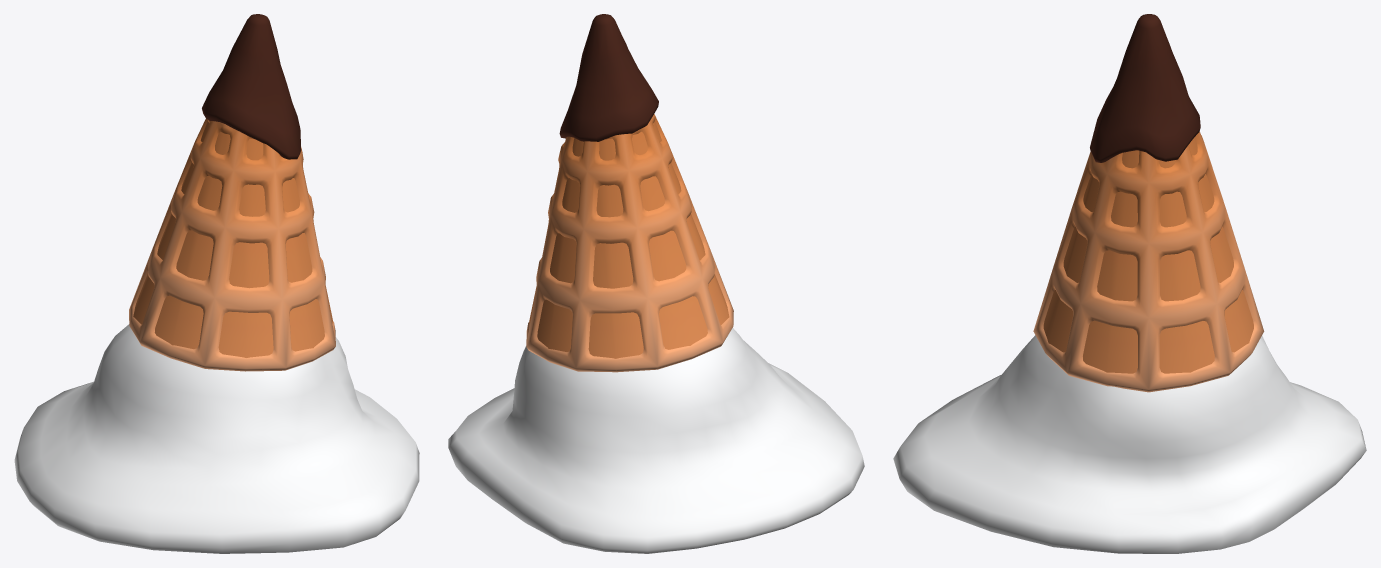
File: IceCream_02.glb
3 renders of one model, left to right at view 1: azimuth 30°, elevation 25°; view 2: azimuth 150°, elevation 25°; view 3: azimuth 270°, elevation 25°, orthographic. The views are drawn at different scales.
Parts seen in each view (by area): view 1: IceCream_02; view 2: IceCream_02; view 3: IceCream_02.
Part boxes in pixels (bbox=[...]): IceCream_02: bbox=[14, 14, 419, 553]; IceCream_02: bbox=[448, 14, 864, 553]; IceCream_02: bbox=[893, 14, 1366, 553].
Size of the model in its own units: 16.29 by 19.3 by 17.51.
1 material, 1 textured.
